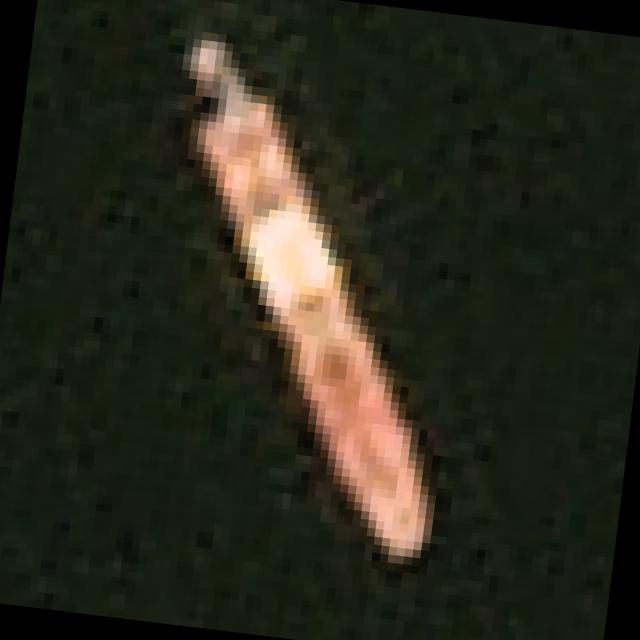ship: (112, 24, 528, 585)
